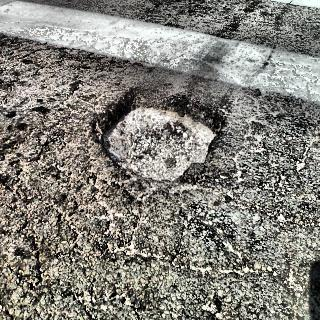pothole: (96, 82, 232, 184)
